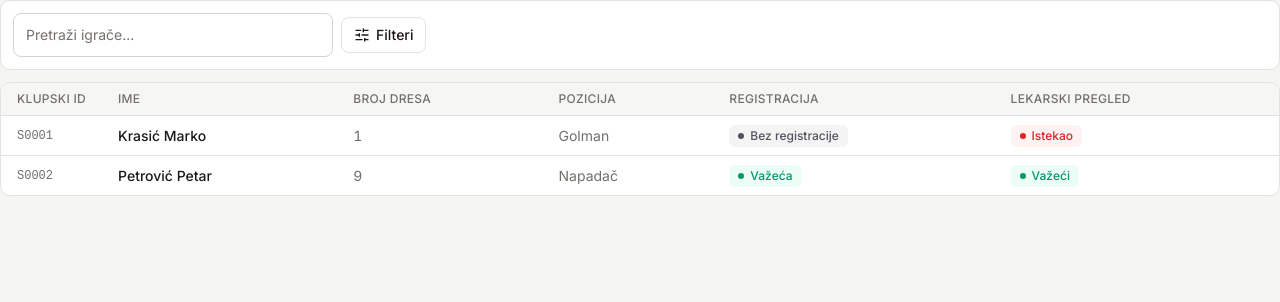
Scenario: TeamRoster position filter › counts position together with the other filters
Click the button "Filteri": (384, 35) [341,17,426,53]
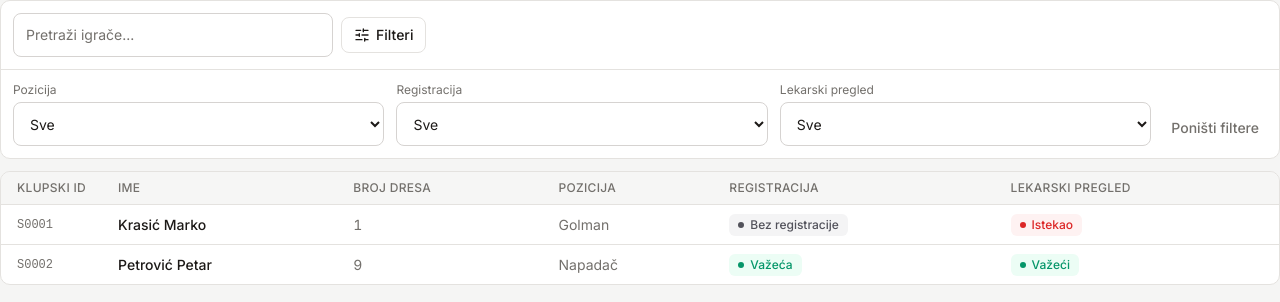
Select "Golman" in the dropdown labelled "Pozicija": (199, 124) [13,102,384,146]
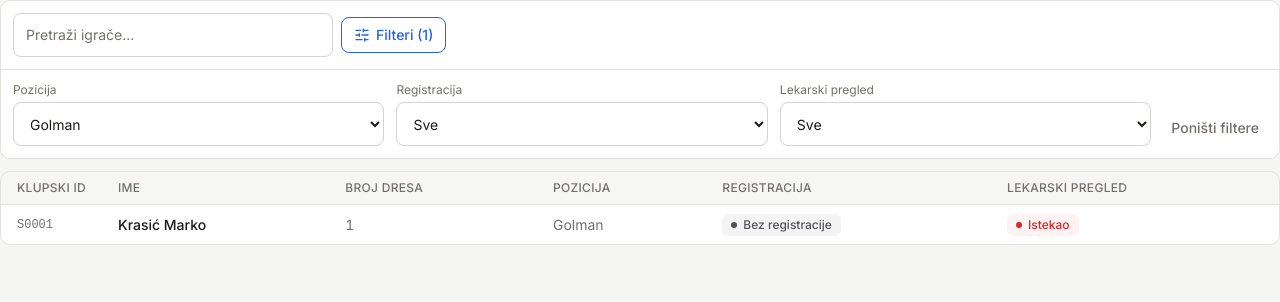
Select "Važeća" in the dropdown labelled "Registracija": (582, 124) [396,102,768,146]
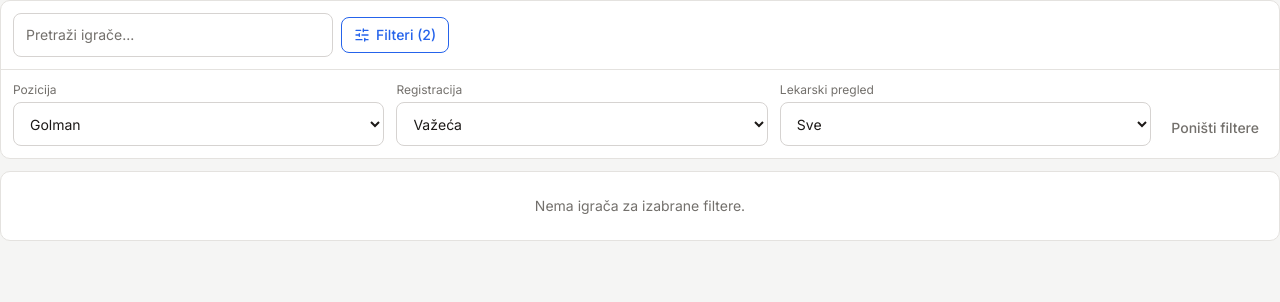
Now the button "Filteri (2)" is shown, box [341,17,449,53]
Now the text "Nema igrača za izabrane filtere." is shown, box [0,171,1279,241]
